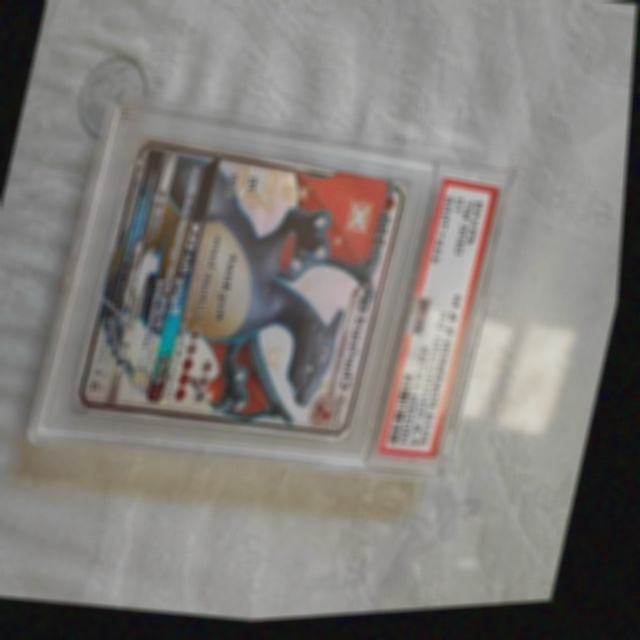card: (78, 137, 411, 447)
